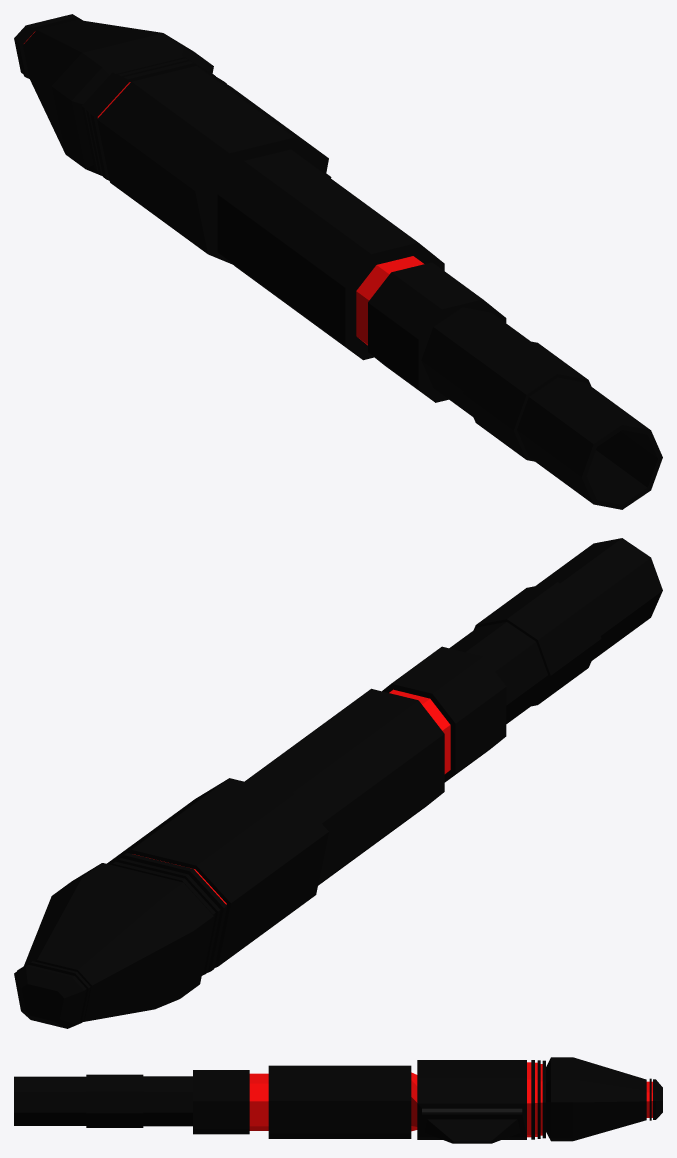
File: Rifle.fbx
3 views of the same model, one above another, from view 1: azimuth 30°, elevation 25°; view 2: azimuth 150°, elevation 25°; view 3: azimuth 270°, elevation 25° (orthographic). The views are drawn at different scales.
Parts seen in each view (by area): view 1: Rifle; view 2: Rifle; view 3: Rifle.
Part boxes in pixels (x1,y1,x2,y2): Rifle: (14, 14, 662, 509); Rifle: (14, 538, 662, 1028); Rifle: (14, 1057, 662, 1143).
Size of the model in its own units: 24.37 by 15.44 by 141.
